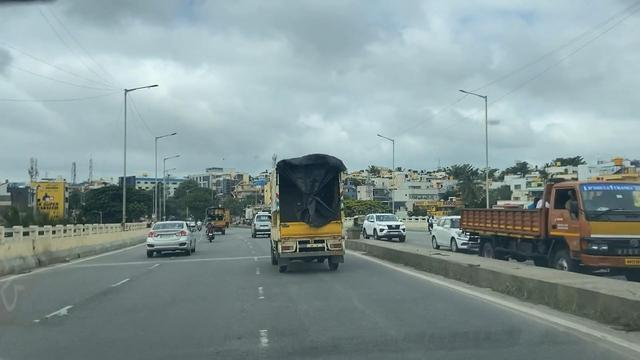HMV: (460, 168, 640, 282), (277, 157, 356, 270)
